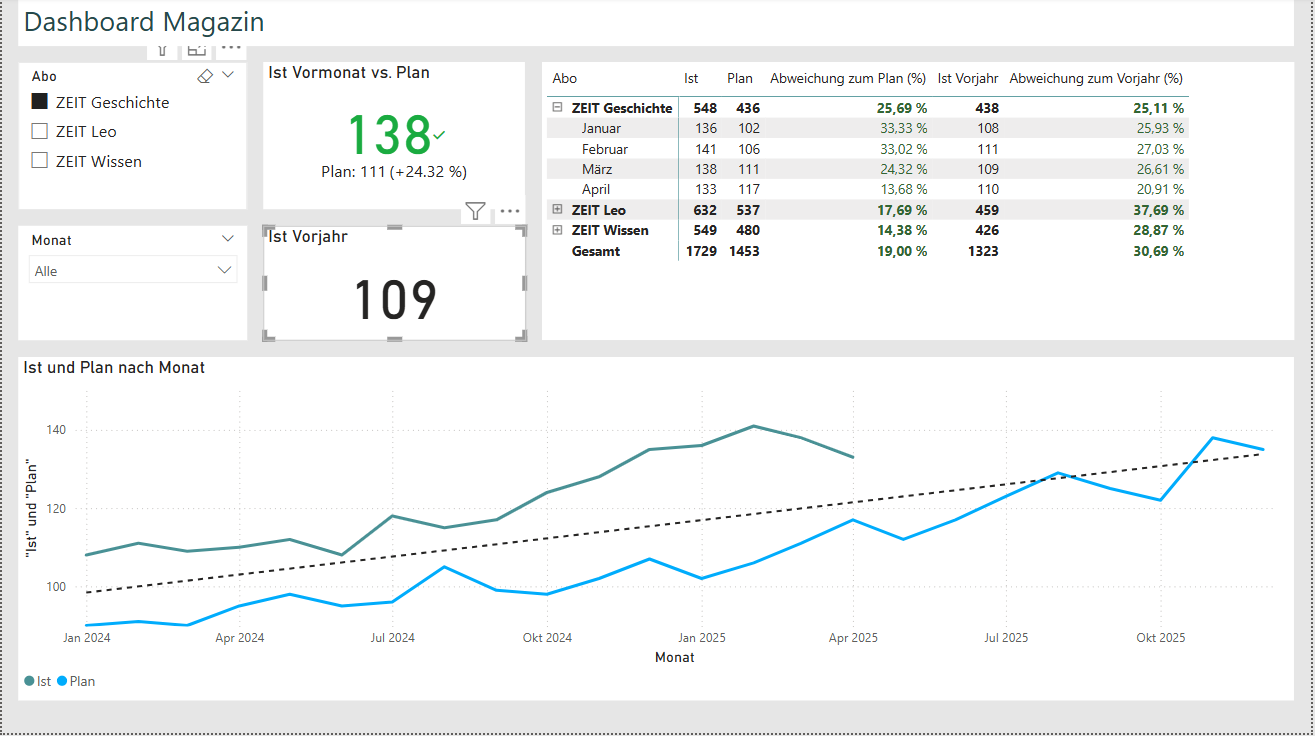

The dashboard page shown, as its layout file describes it:
{"tool":"powerbi","page":{"name":"Seite 1","canvas":[1280,720],"ordinal":0},"visuals":[{"type":"lineChart","fields":{"Category":["Magazin_ISTPLAN.Monat"],"Y":["Sum(Magazin_ISTPLAN.Ist)","Sum(Magazin_ISTPLAN.Plan)"]},"box":[16,352,1248,336],"z":0},{"type":"slicer","fields":{"Values":["Magazin_ISTPLAN.Abo"]},"box":[16,64,224,144],"z":1},{"type":"pivotTable","fields":{"Rows":["Magazin_ISTPLAN.Abo","Magazin_ISTPLAN.Monat.Variation.Datumshierarchie.Monat"],"Values":["Sum(Magazin_ISTPLAN.Ist)","Sum(Magazin_ISTPLAN.Plan)","Magazin_ISTPLAN.Abweichung zum Plan (%)","Magazin_ISTPLAN.Ist Previous Year","Magazin_ISTPLAN.Abweichung zum Vorjahr (%)"]},"box":[528,64,736,272],"z":2},{"type":"slicer","fields":{"Values":["Magazin_ISTPLAN.Monat"]},"box":[16,224,224,112],"z":3},{"type":"kpi","title":"Ist Vormonat vs. Plan","fields":{"Goal":["Sum(Magazin_ISTPLAN.Plan)"],"Indicator":["Sum(Magazin_ISTPLAN.Ist)"],"TrendLine":["Magazin_ISTPLAN.Ist"]},"box":[256,64,256,144],"z":4},{"type":"card","title":"Ist Vorjahr","fields":{"Values":["Magazin_ISTPLAN.Ist Previous Year"]},"box":[256,224,256,112],"z":5},{"type":"textbox","box":[16,0,1248,48],"z":6}]}

Visuals, with their boxes on the page's 1280x720 design canvas (x1, y1, x2, y2). These are canvas units, not pixel positions in the 1315x736 screenshot, which may show the page scaled, cropped or inside an application window:
lineChart - Magazin_ISTPLAN.Monat x Sum(Magazin_ISTPLAN.Ist): 16:352:1264:688
slicer - Magazin_ISTPLAN.Abo: 16:64:240:208
pivotTable - Magazin_ISTPLAN.Abo x Magazin_ISTPLAN.Monat.Variation.Datumshierarchie.Monat: 528:64:1264:336
slicer - Magazin_ISTPLAN.Monat: 16:224:240:336
"Ist Vormonat vs. Plan" kpi: 256:64:512:208
"Ist Vorjahr" card: 256:224:512:336
textbox: 16:0:1264:48
